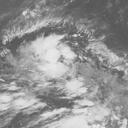cyclone: (14, 34, 81, 98)
